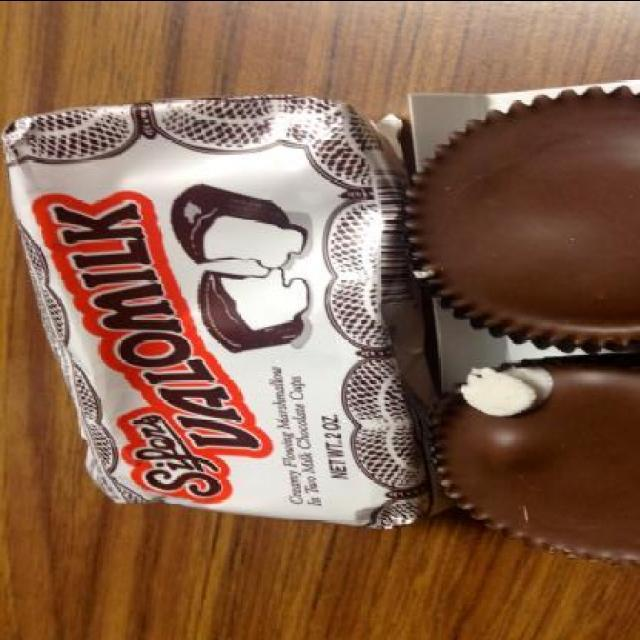Cookie: (390, 95, 636, 352), (423, 354, 640, 568)
